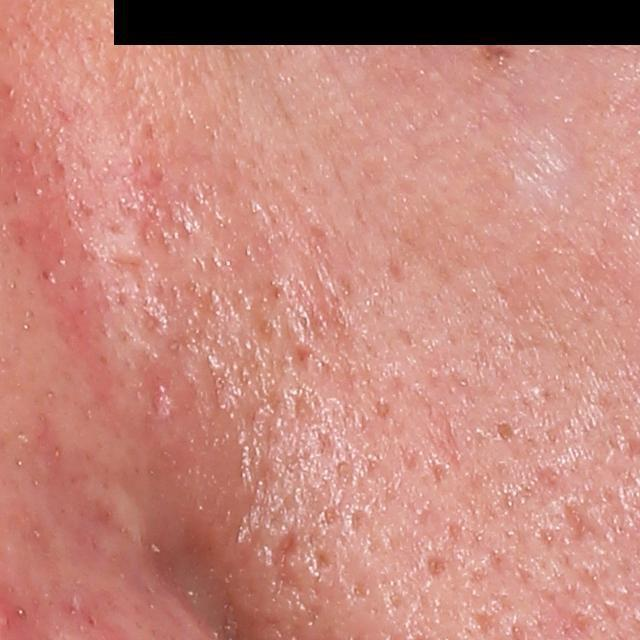atrophic_scar: (137, 357, 181, 425), (557, 495, 608, 548), (268, 527, 303, 598)
comedo: (498, 422, 515, 446)
nevus: (474, 33, 521, 72)
